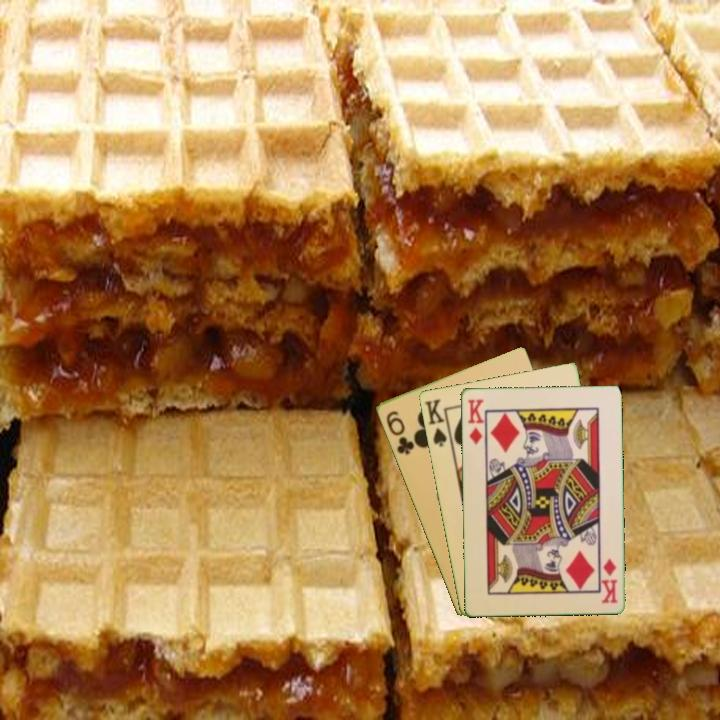6c: (382, 407, 417, 457)
Kd: (598, 554, 620, 606), (464, 396, 486, 447)
Ks: (421, 395, 454, 449)
